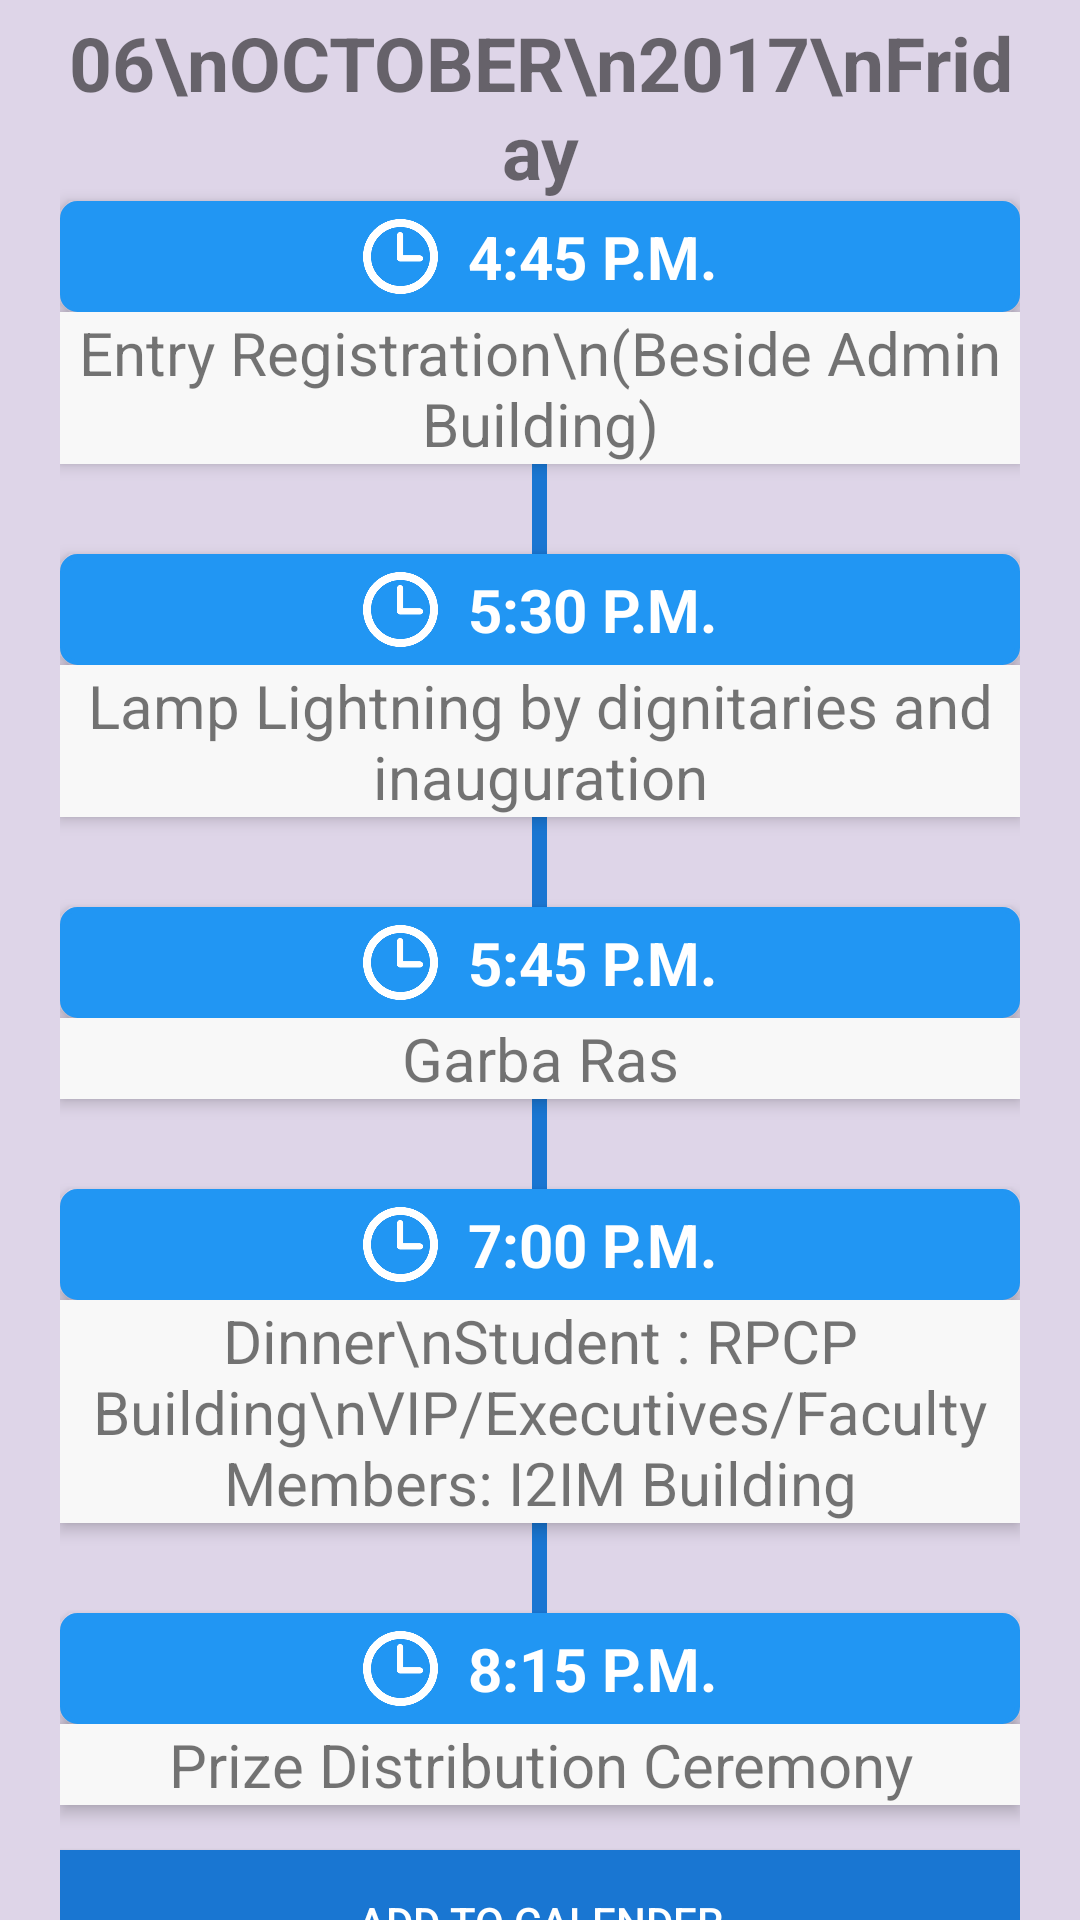

Screen size 1080px×1920px. Icon name, then its center in pixels as point (x, y):
clock: point (400, 256), point (400, 609), point (400, 962), point (400, 1244), point (400, 1668)
